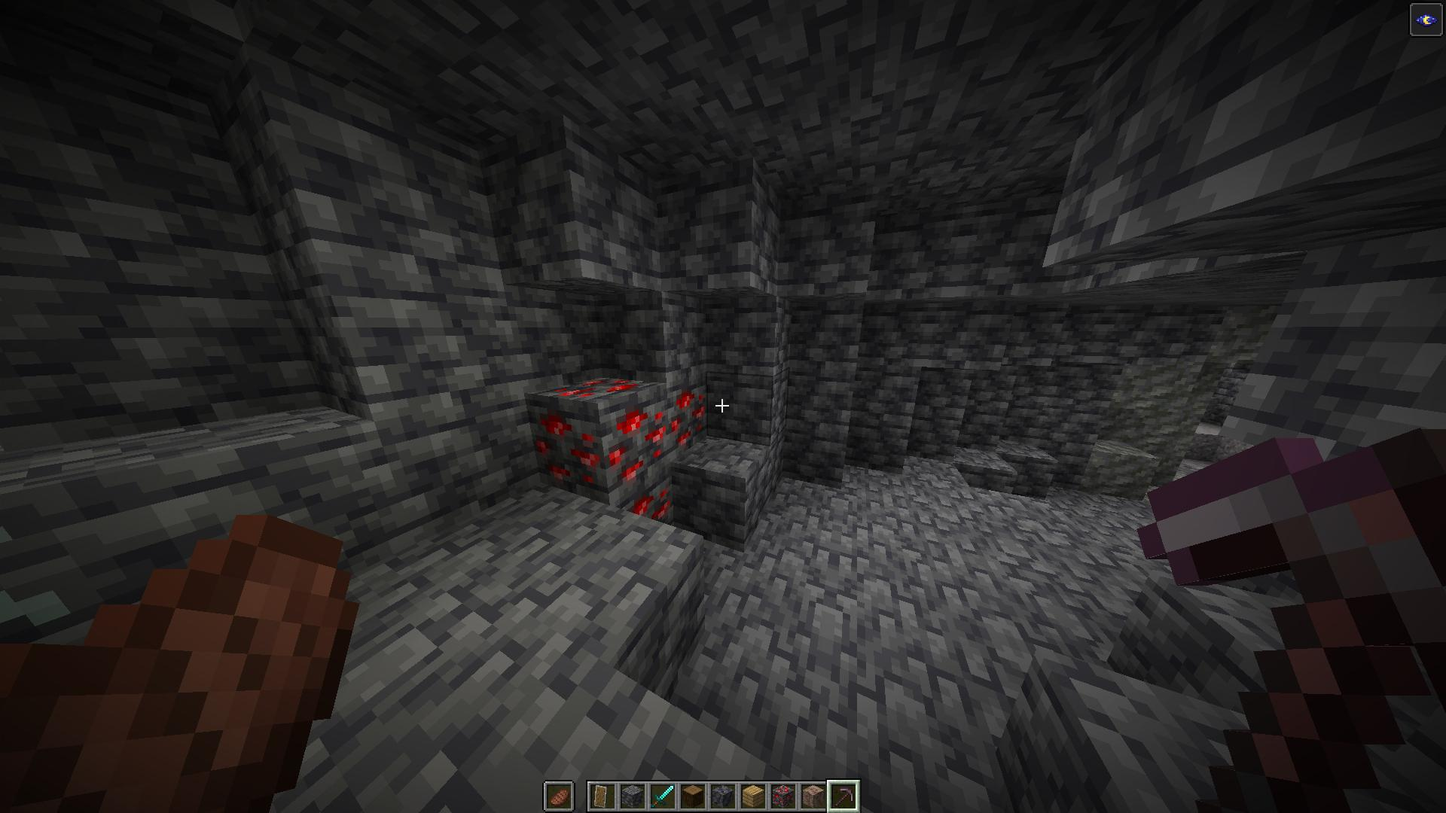redstone ore: (536, 374, 711, 526)
